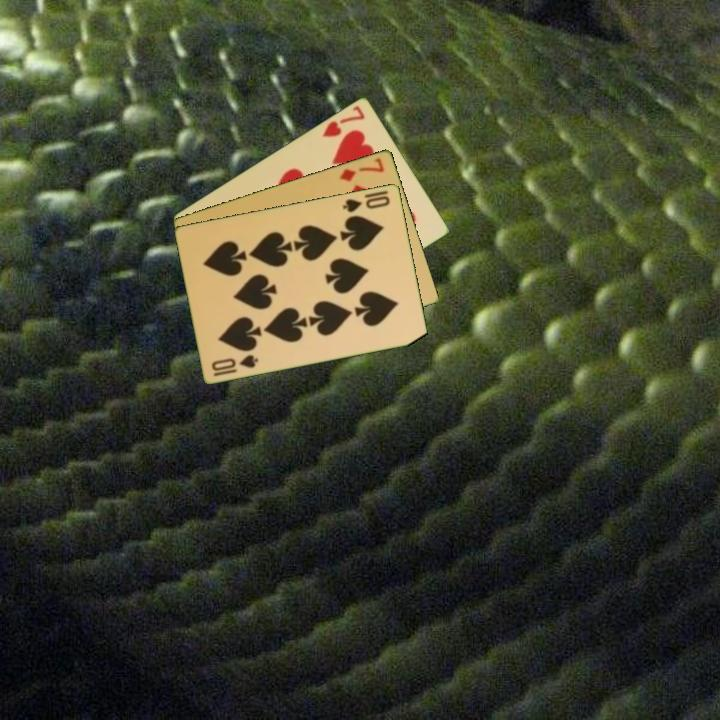10s: (208, 351, 262, 379), (339, 192, 393, 215)
7d: (336, 154, 387, 184)
7h: (319, 102, 368, 140)
